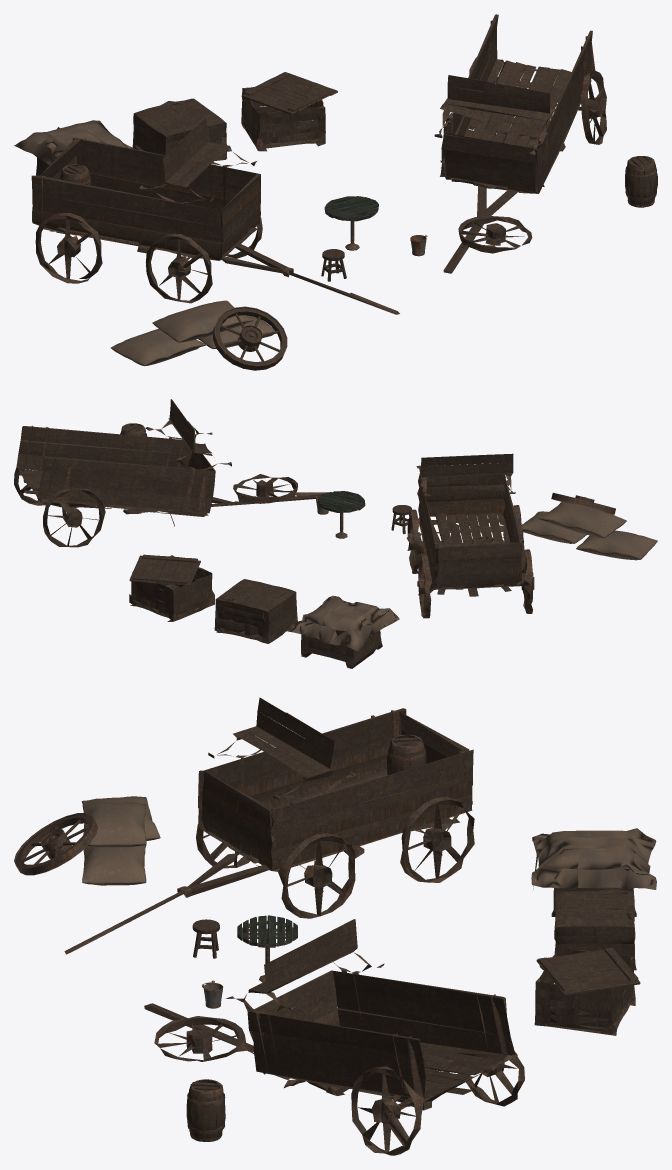
The model's file is castle-props-a.glb.
3 views of the same model, one above another, from view 1: azimuth 30°, elevation 25°; view 2: azimuth 150°, elevation 25°; view 3: azimuth 270°, elevation 25° (orthographic). The views are drawn at different scales.
Parts seen in each view (by area): view 1: SM_Cart, SM_Cart_Broken, SM_Crate, SM_Crate1, SM_Wheel_Solo, SM_Crate2, SM_Crate_Roped, SM_Sandbag2, SM_Sandbag1, SM_Barrell, SM_Table, SM_Sandbag (+1 smaller); view 2: SM_Cart_Broken, SM_Cart, SM_Crate_Roped, SM_Crate, SM_Crate1, SM_Sandbag2, SM_Crate2, SM_Sandbag1, SM_Table, SM_Sandbag, SM_Wheel_Solo; view 3: SM_Cart, SM_Cart_Broken, SM_Crate_Roped, SM_Crate, SM_Crate1, SM_Crate2, SM_Wheel_Solo, SM_Sandbag2, SM_Sandbag, SM_Barrell, SM_Table, SM_Barrell4 (+2 smaller).
Part boxes in pixels (x1,y1,x2,y2): SM_Cart: (31, 118, 399, 314); SM_Cart_Broken: (434, 14, 606, 273); SM_Crate: (132, 98, 226, 161); SM_Crate1: (241, 87, 325, 151); SM_Wheel_Solo: (213, 306, 287, 370); SM_Crate2: (241, 72, 337, 114); SM_Crate_Roped: (14, 120, 135, 175); SM_Sandbag2: (152, 300, 253, 342); SM_Sandbag1: (111, 329, 206, 366); SM_Barrell: (625, 156, 657, 207); SM_Table: (324, 196, 378, 250); SM_Sandbag: (198, 315, 274, 348); SM_Cart_Broken: (14, 399, 326, 547); SM_Cart: (406, 453, 534, 618); SM_Crate_Roped: (282, 595, 399, 668); SM_Crate: (214, 579, 297, 643); SM_Crate1: (129, 555, 214, 621); SM_Sandbag2: (538, 501, 626, 538); SM_Crate2: (129, 554, 200, 585); SM_Sandbag1: (576, 530, 657, 560); SM_Table: (318, 491, 365, 538); SM_Sandbag: (521, 511, 586, 543); SM_Wheel_Solo: (551, 493, 615, 514); SM_Cart: (64, 697, 474, 954); SM_Cart_Broken: (144, 919, 524, 1155); SM_Crate_Roped: (531, 828, 656, 916); SM_Crate: (554, 889, 636, 970); SM_Crate1: (534, 948, 635, 1035); SM_Crate2: (536, 947, 640, 995); SM_Wheel_Solo: (14, 813, 98, 875); SM_Sandbag2: (82, 802, 146, 847); SM_Sandbag: (82, 842, 146, 885); SM_Barrell: (186, 1079, 225, 1141); SM_Table: (237, 915, 297, 982); SM_Barrell4: (387, 734, 426, 775).
Size of the model in its own units: 13.8 by 3.06 by 10.47.
2 materials, 2 textured.
